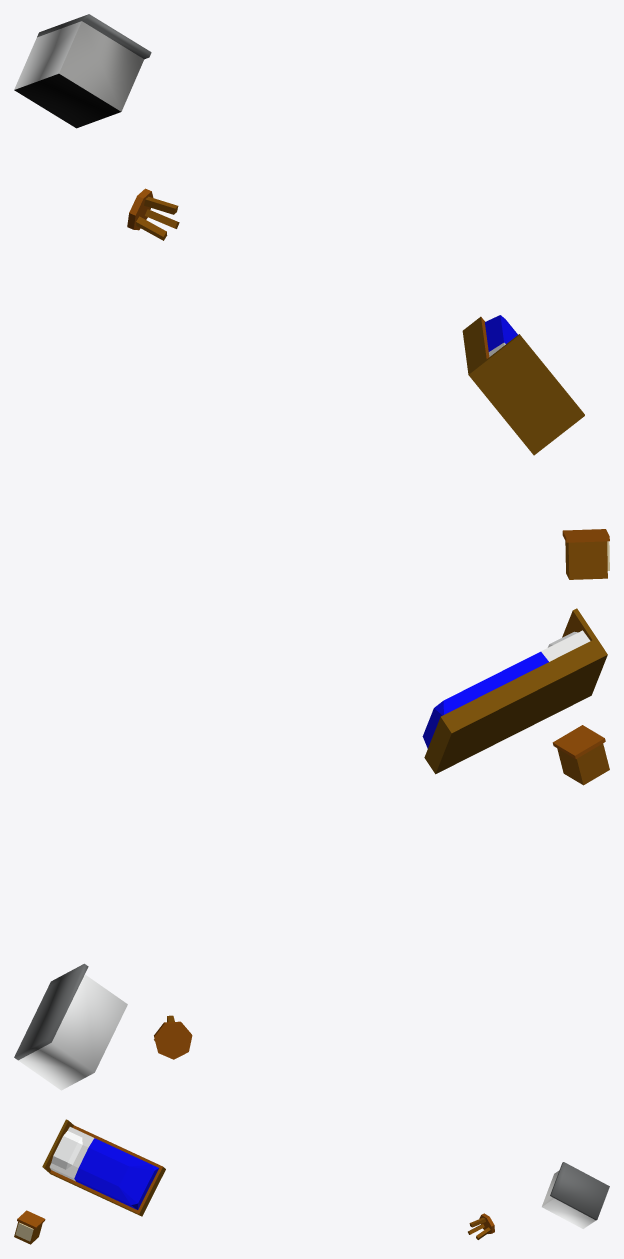
The model's file is threeJsScenePotatoPremiumFloating.glb.
3 renders of one model, top to bottom at view 1: azimuth 30°, elevation 25°; view 2: azimuth 150°, elevation 25°; view 3: azimuth 270°, elevation 25°, orthographic. The views are drawn at different scales.
Parts seen in each view (by area): view 1: Bed Single.001; view 2: Bed Single.001; view 3: Bed Single.001.
Boxes of the visible parts, x1=… form: Bed Single.001: x1=14, y1=14, x2=609, y2=579; Bed Single.001: x1=14, y1=608, x2=609, y2=1090; Bed Single.001: x1=14, y1=1119, x2=609, y2=1244.
Size of the model in its own units: 6.97 by 9.64 by 46.04.
1 material, 1 textured.
